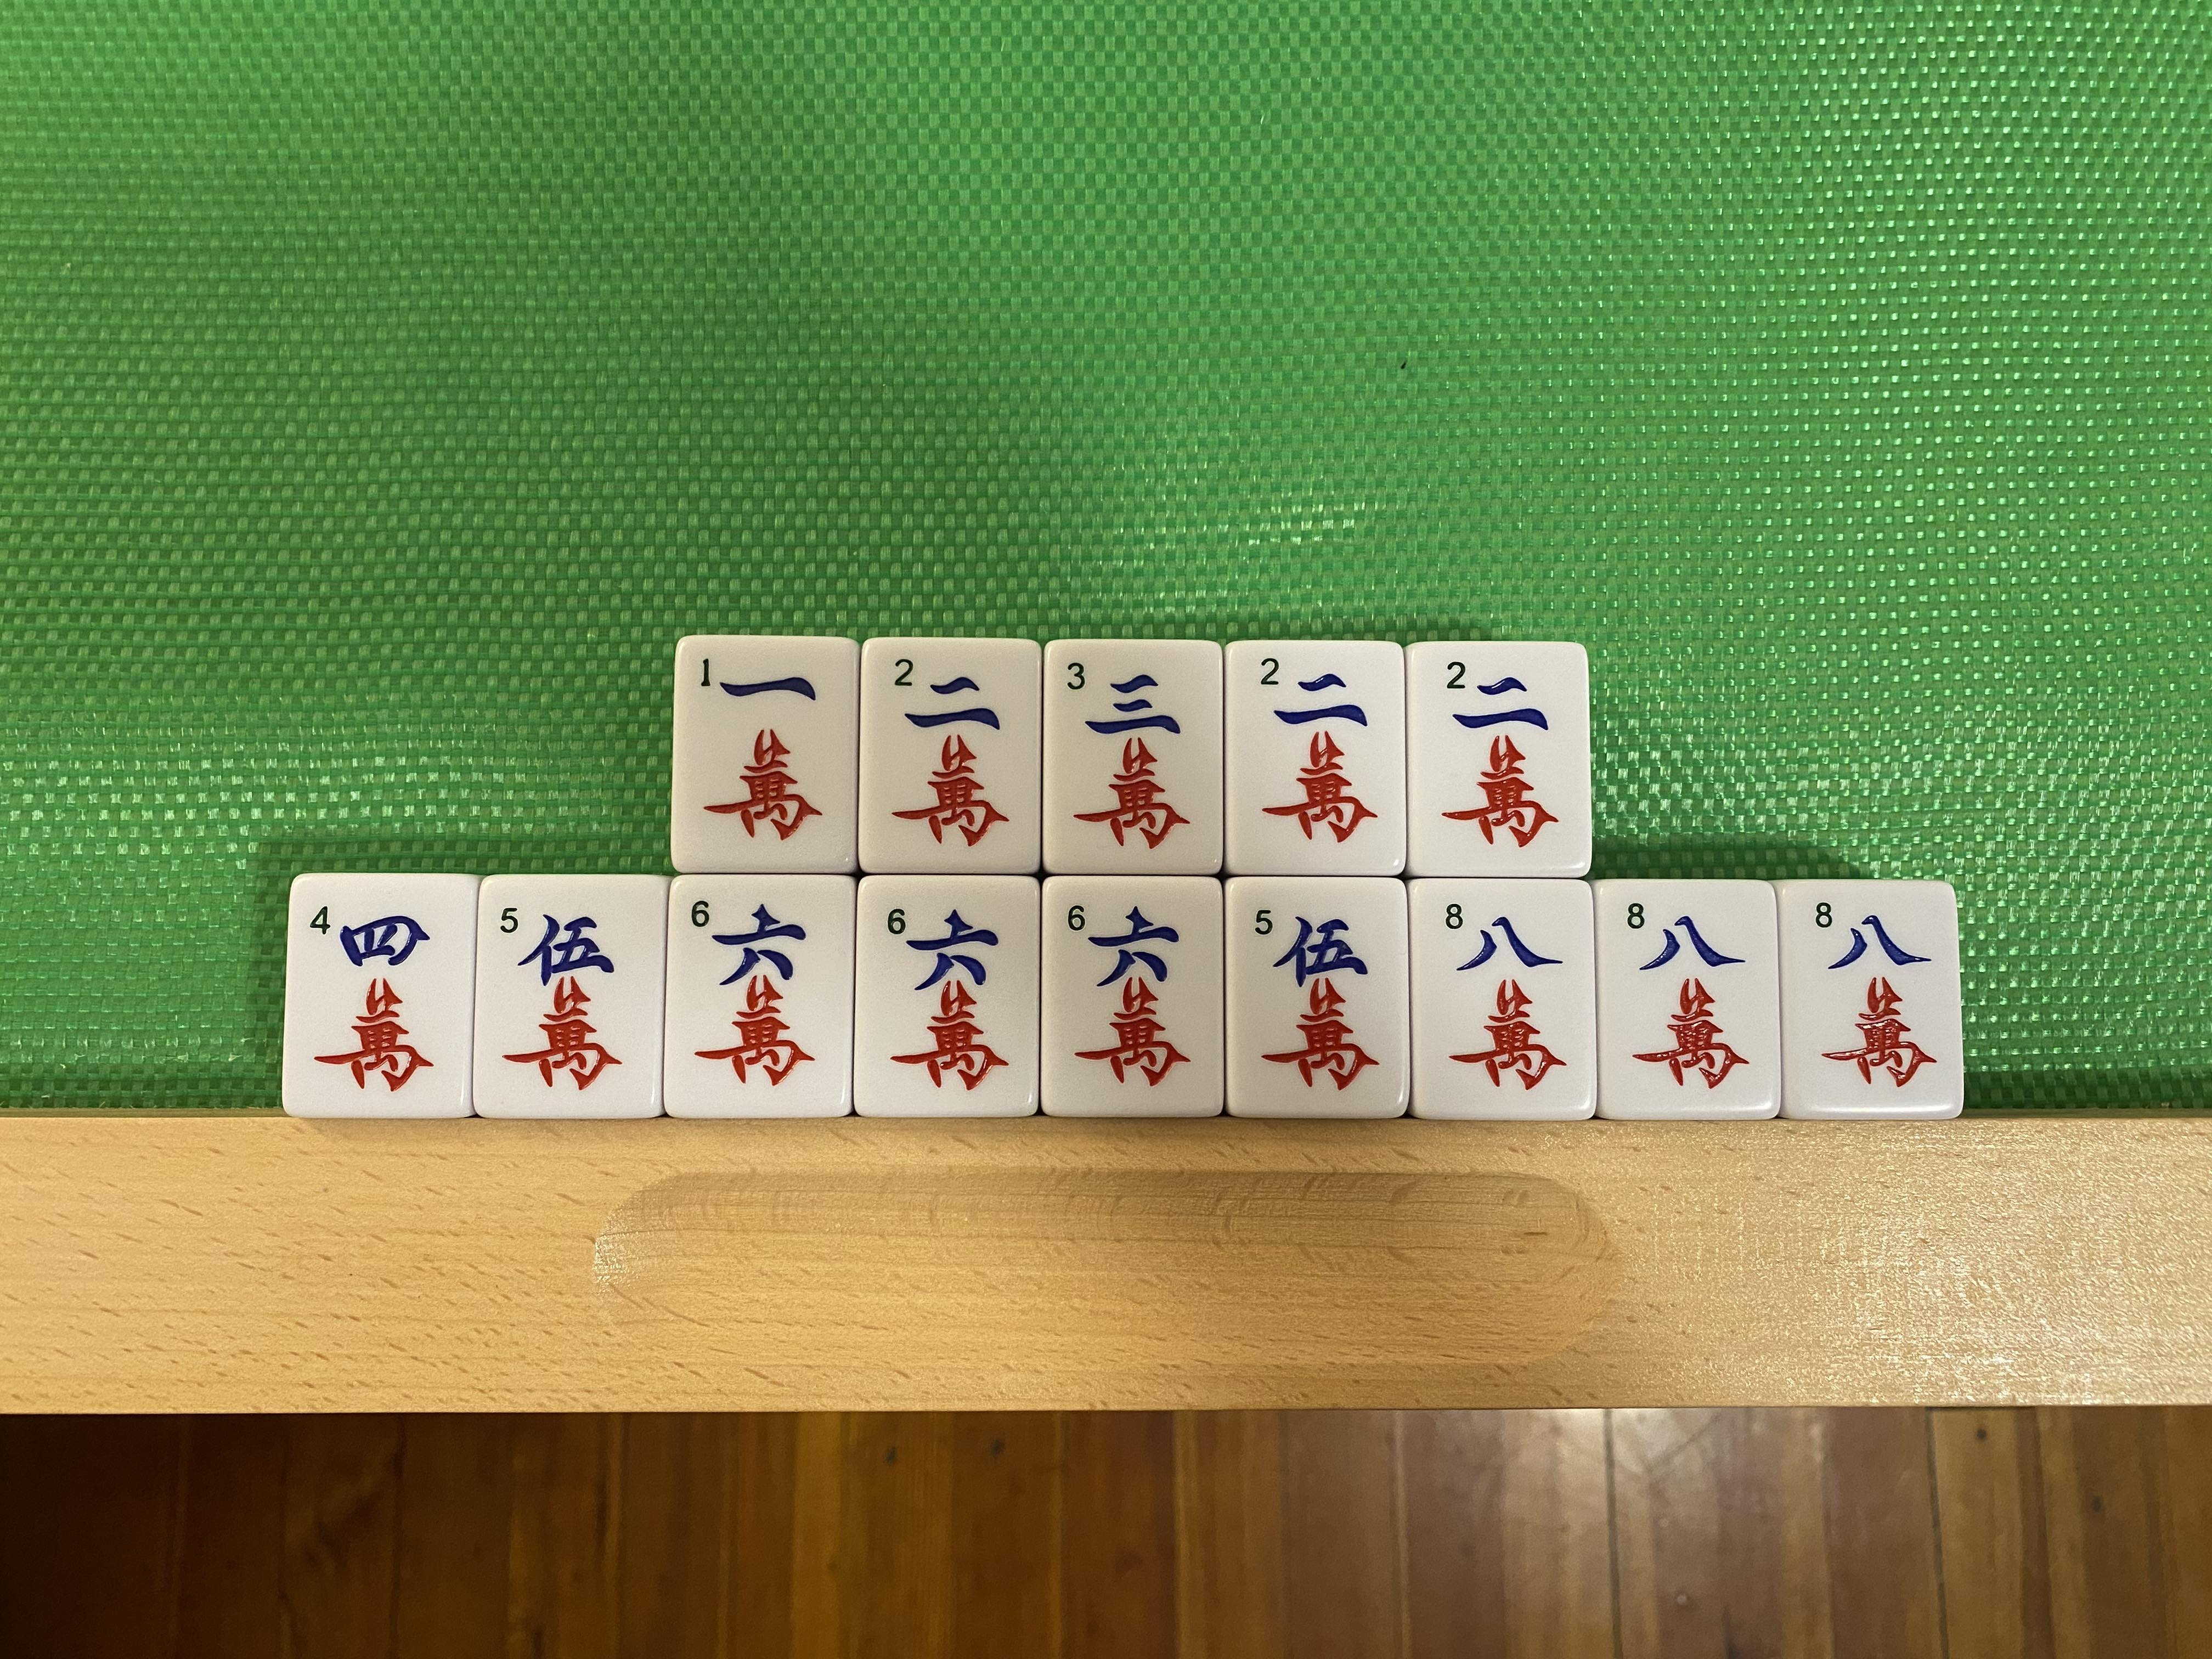character-eight: (1414, 884, 1594, 1117), (1599, 880, 1773, 1119), (1784, 884, 1954, 1117)
character-five: (475, 878, 662, 1119), (1226, 880, 1406, 1114)
character-four: (286, 877, 472, 1112)
character-one: (678, 638, 853, 870)
character-six: (665, 877, 852, 1117), (857, 878, 1036, 1114), (1043, 878, 1223, 1112)
character-three: (1042, 643, 1219, 873)
character-two: (859, 643, 1038, 873), (1409, 645, 1587, 873), (1226, 645, 1402, 873)
